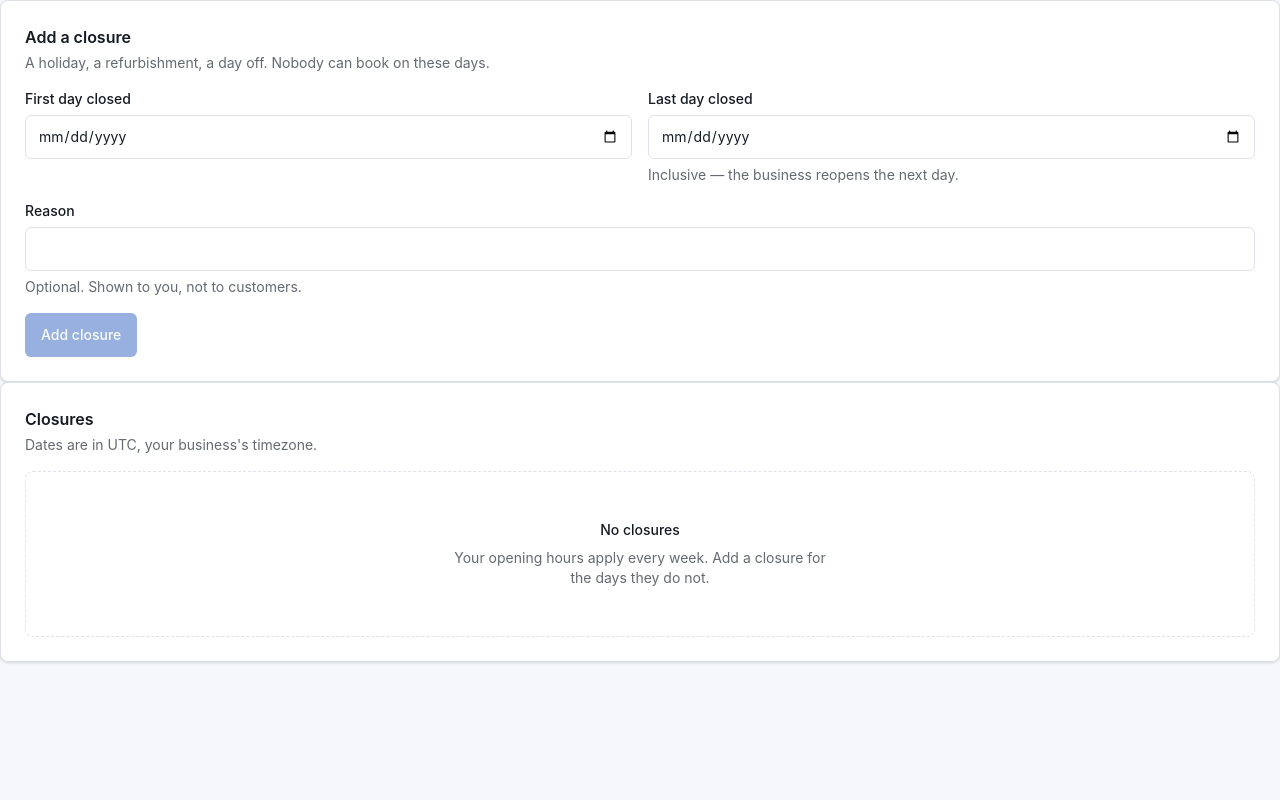
Test: ClosuresScreen, when a write is refused › puts a fielded message against the date it names, and no banner
The width and height of the screenshot is (1280, 800).
Type "2026-12-24" into the date field labelled "First day closed".
click(328, 137); type("2026-12-24")  # box [25, 115, 632, 159]
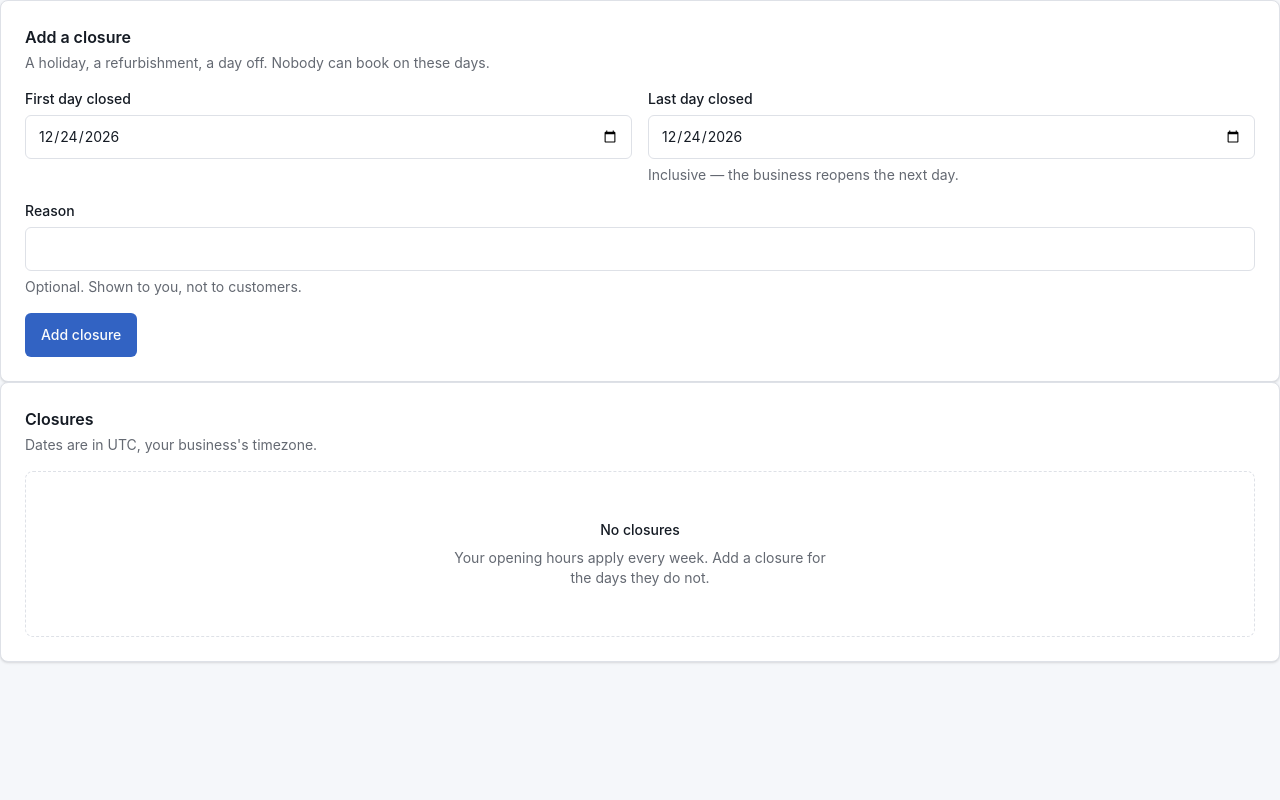
Type "2026-12-26" into the date field labelled "Last day closed".
click(952, 137); type("2026-12-26")  # box [648, 115, 1255, 159]
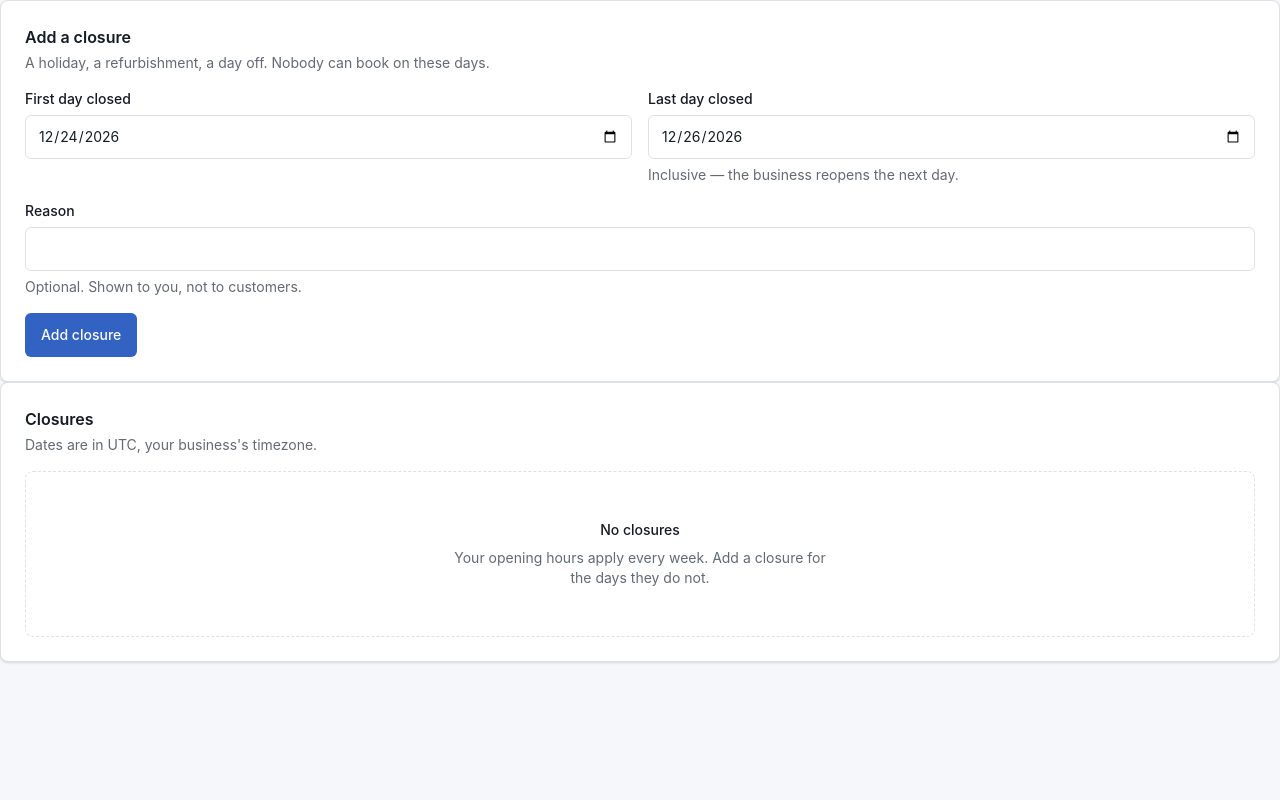
Click the button "Add closure".
click(81, 335)  # box [25, 313, 137, 357]
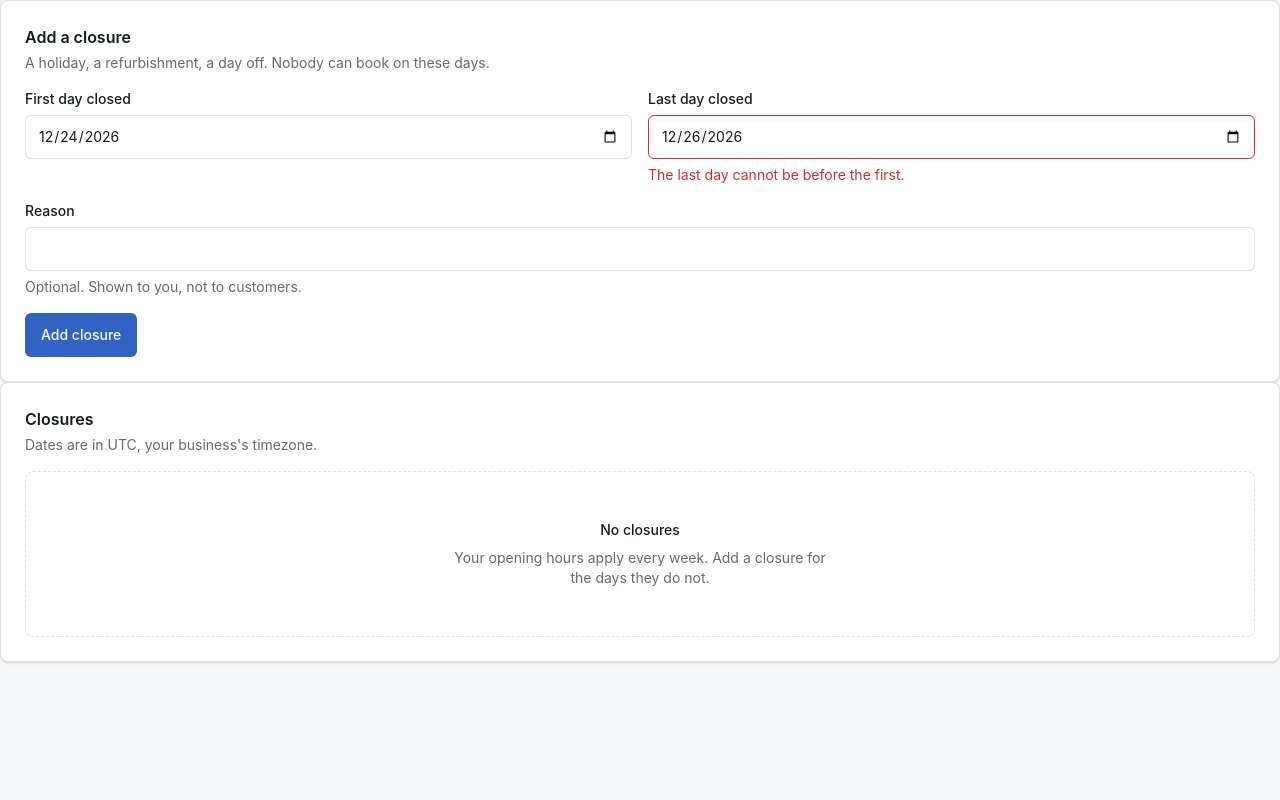
Expected: the text "The last day cannot be before the first." is shown, [648, 166, 905, 183]
